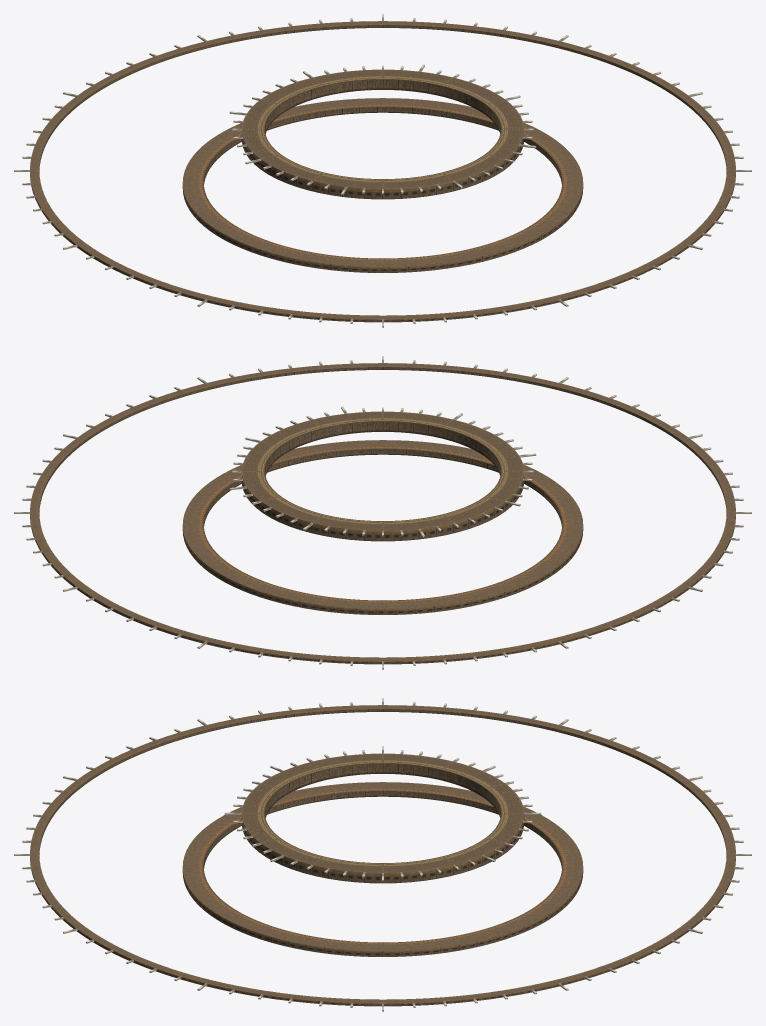
The model's file is floating_pedestal.obj.
The picture shows the model from 3 angles, top to bottom: view 1: azimuth 30°, elevation 25°; view 2: azimuth 150°, elevation 25°; view 3: azimuth 270°, elevation 25°; orthographic projection.
Size of the model in its own units: 35.01 by 3.1 by 35.01.
